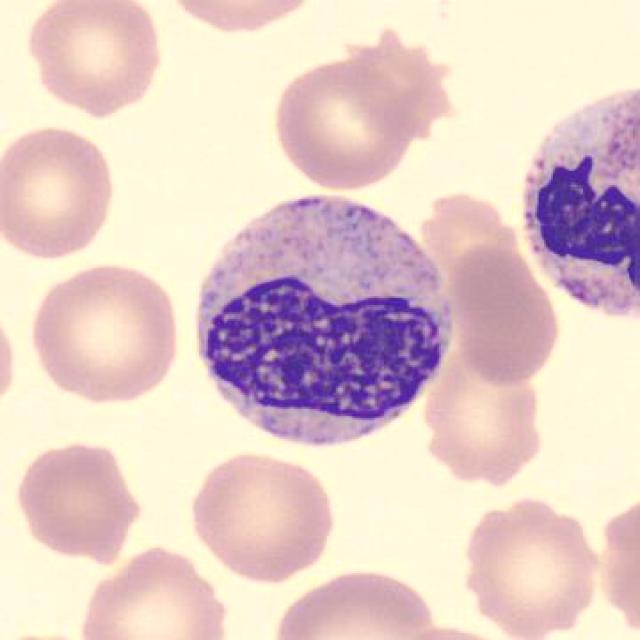RBC: (23, 258, 187, 408), (457, 490, 606, 638), (267, 53, 425, 192), (183, 448, 341, 585), (0, 122, 119, 264), (12, 436, 146, 562), (21, 2, 167, 116), (71, 539, 234, 640), (267, 562, 439, 638), (594, 488, 640, 638), (154, 0, 323, 39), (384, 622, 526, 640)
